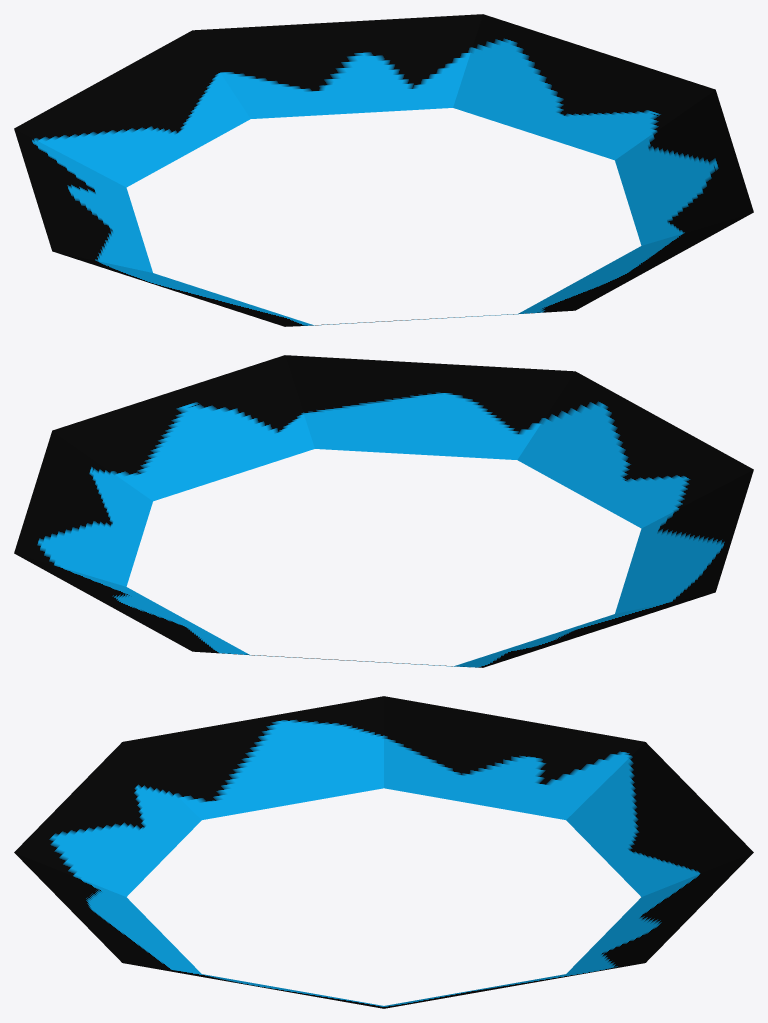
3 renders of one model, top to bottom at view 1: azimuth 30°, elevation 25°; view 2: azimuth 150°, elevation 25°; view 3: azimuth 270°, elevation 25°, orthographic. The views are drawn at different scales.
Visible parts, largest first — view 1: 円柱; view 2: 円柱; view 3: 円柱.
Boxes of the visible parts, left/top/right/bottom form: 円柱: left=14, top=14, right=753, bottom=326; 円柱: left=14, top=355, right=753, bottom=667; 円柱: left=14, top=696, right=753, bottom=1008.
Bounding box in the file's own units: 5 × 0.3329 × 5.
1 material, 1 textured.
